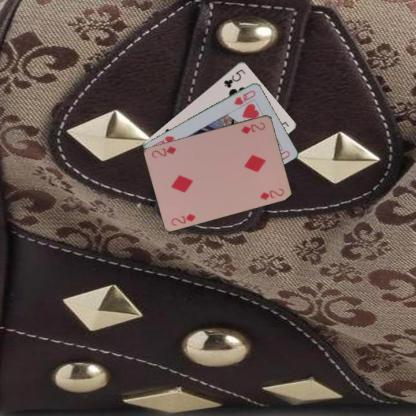2d: (238, 119, 266, 135), (169, 211, 197, 227)
5c: (221, 66, 247, 89)
Qh: (231, 88, 257, 106)
